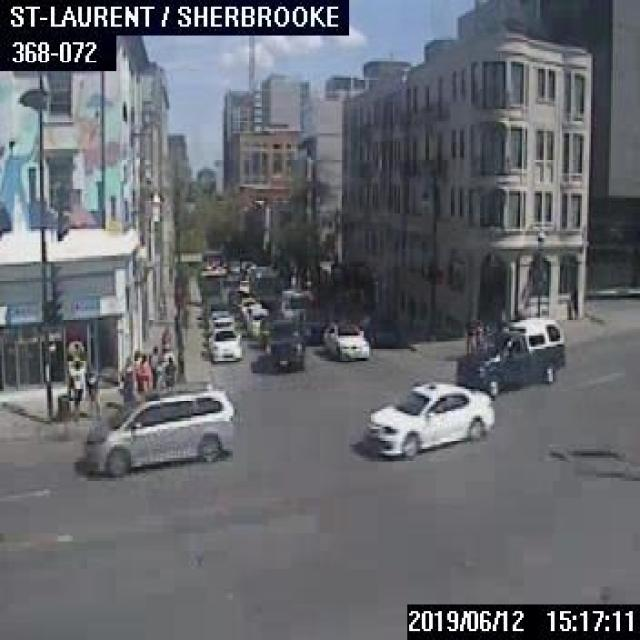pedestrian: (83, 367, 100, 418), (69, 359, 82, 417), (120, 354, 133, 400), (134, 352, 148, 390), (148, 346, 159, 387), (164, 354, 176, 388), (474, 313, 488, 342), (464, 314, 474, 352), (158, 324, 171, 349)
vehicle: (82, 382, 234, 478), (367, 378, 492, 458), (454, 316, 565, 397), (264, 317, 304, 368), (322, 320, 370, 357), (199, 264, 228, 310), (206, 328, 242, 361), (259, 314, 285, 342), (246, 306, 268, 335), (236, 294, 258, 316), (210, 316, 234, 332)
